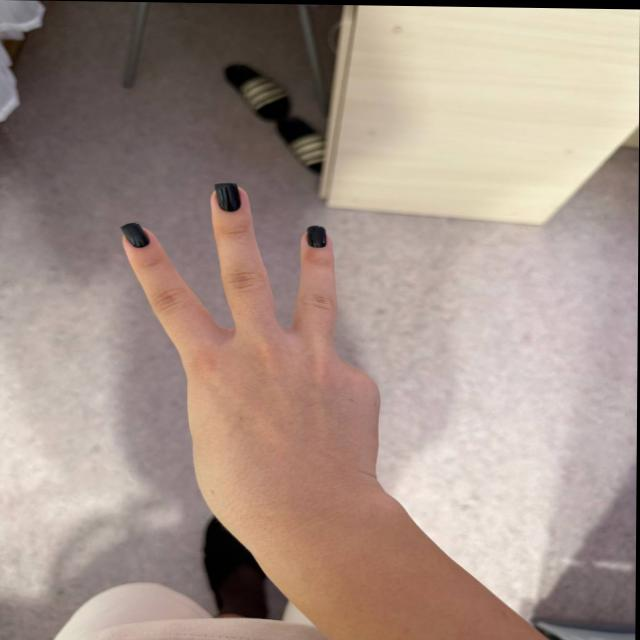m: (99, 180, 395, 483)
